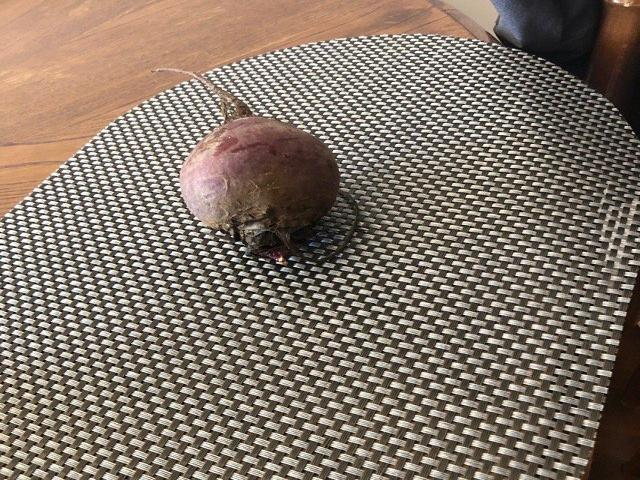beet: (153, 68, 361, 264)
